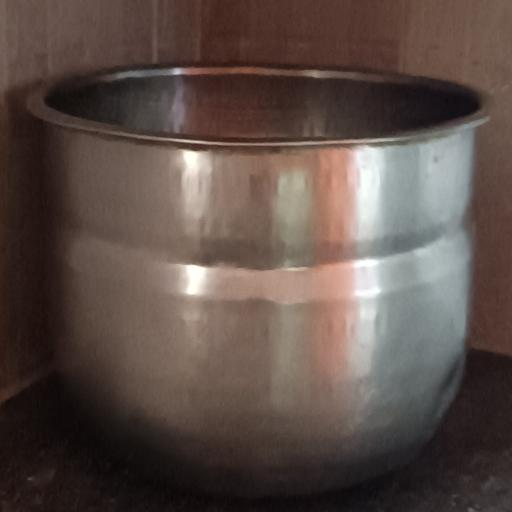vessel: (30, 67, 485, 466)
